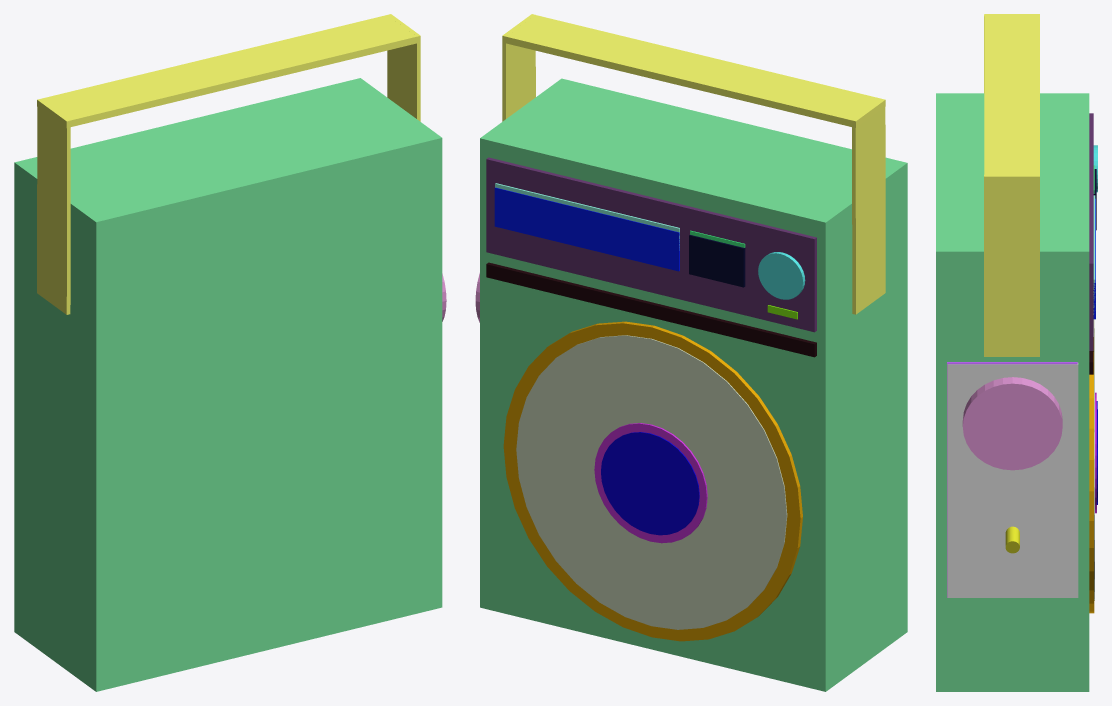
The model's file is Radioforlynn.fbx.
3 views of the same model, side by side, from view 1: azimuth 30°, elevation 25°; view 2: azimuth 150°, elevation 25°; view 3: azimuth 270°, elevation 25° (orthographic). The views are drawn at different scales.
Visible parts, largest first — view 1: Cube.010; view 2: Cube.010; view 3: Cube.010.
Part boxes in pixels (bbox=[...]): Cube.010: bbox=[14, 14, 446, 691]; Cube.010: bbox=[475, 14, 907, 691]; Cube.010: bbox=[936, 14, 1097, 691].
Size of the model in its own units: 168 by 235 by 66.64.
